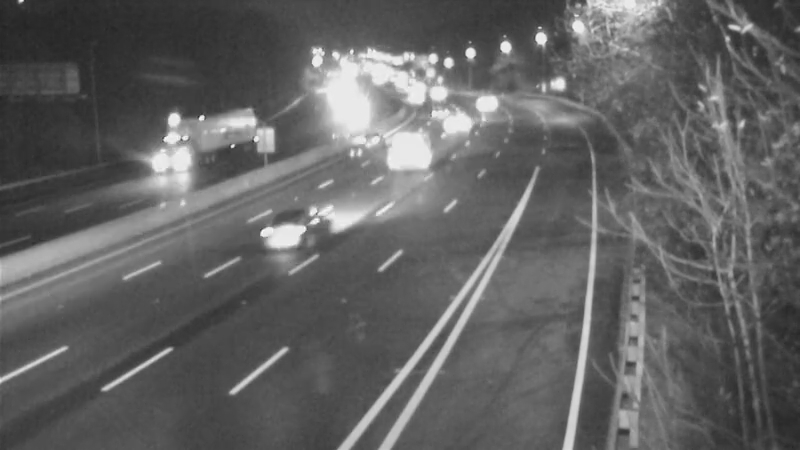vehicle: (367, 114, 447, 194), (247, 193, 327, 273), (125, 120, 205, 200), (416, 69, 466, 119), (385, 73, 435, 123), (459, 77, 509, 127), (406, 86, 456, 136), (434, 99, 484, 149), (334, 114, 384, 164)
